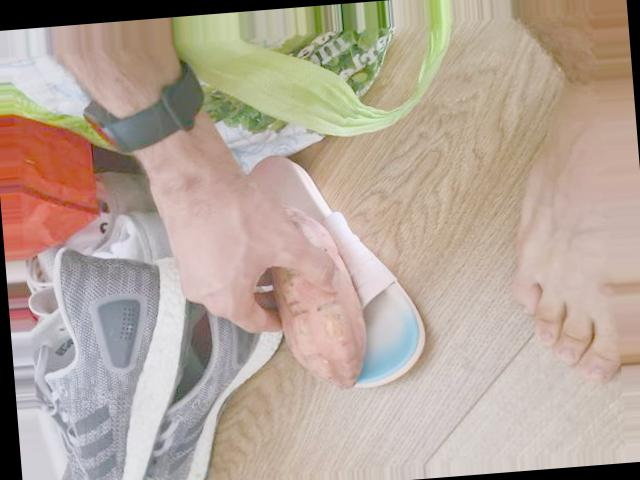sweet_potato: (264, 200, 373, 397)
